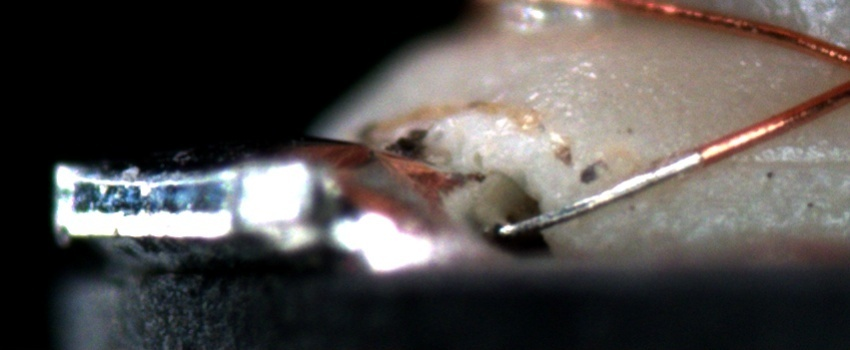DL: (732, 137, 849, 189)
TS: (493, 147, 705, 237)
